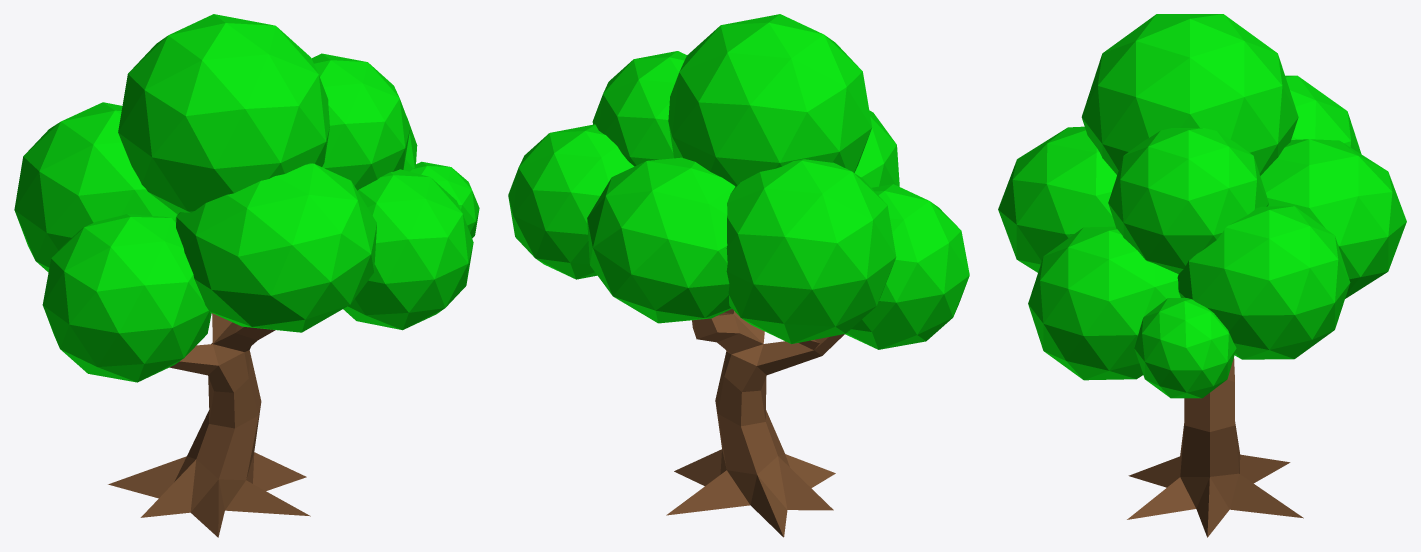
Rendered from arbol_tipo_1.fbx.
3 renders of one model, left to right at view 1: azimuth 30°, elevation 25°; view 2: azimuth 150°, elevation 25°; view 3: azimuth 270°, elevation 25°, orthographic. The views are drawn at different scales.
Parts seen in each view (by area): view 1: Hojas, Tronco; view 2: Hojas, Tronco; view 3: Hojas, Tronco.
Boxes of the visible parts, x1,y1,x2,y2 form: Hojas: [14, 14, 479, 382]; Tronco: [108, 313, 310, 537]; Hojas: [508, 14, 969, 349]; Tronco: [666, 309, 844, 537]; Hojas: [998, 14, 1406, 398]; Tronco: [1127, 358, 1303, 537].
Bounding box in the file's own units: 382 × 412 × 321.
